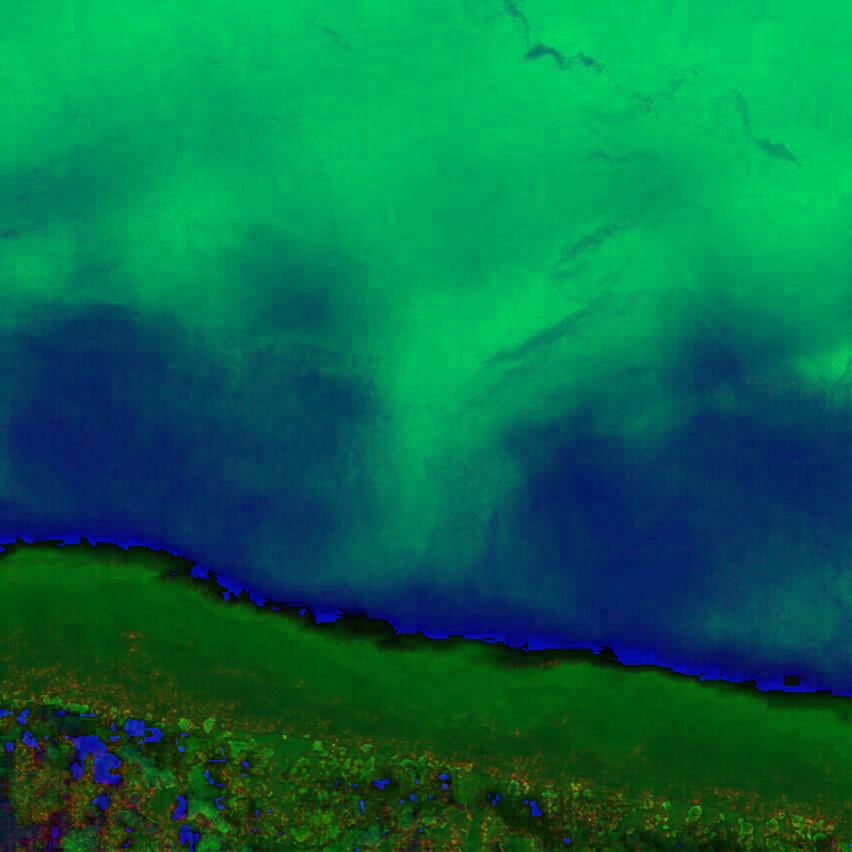rip_current: (320, 226, 561, 610)
